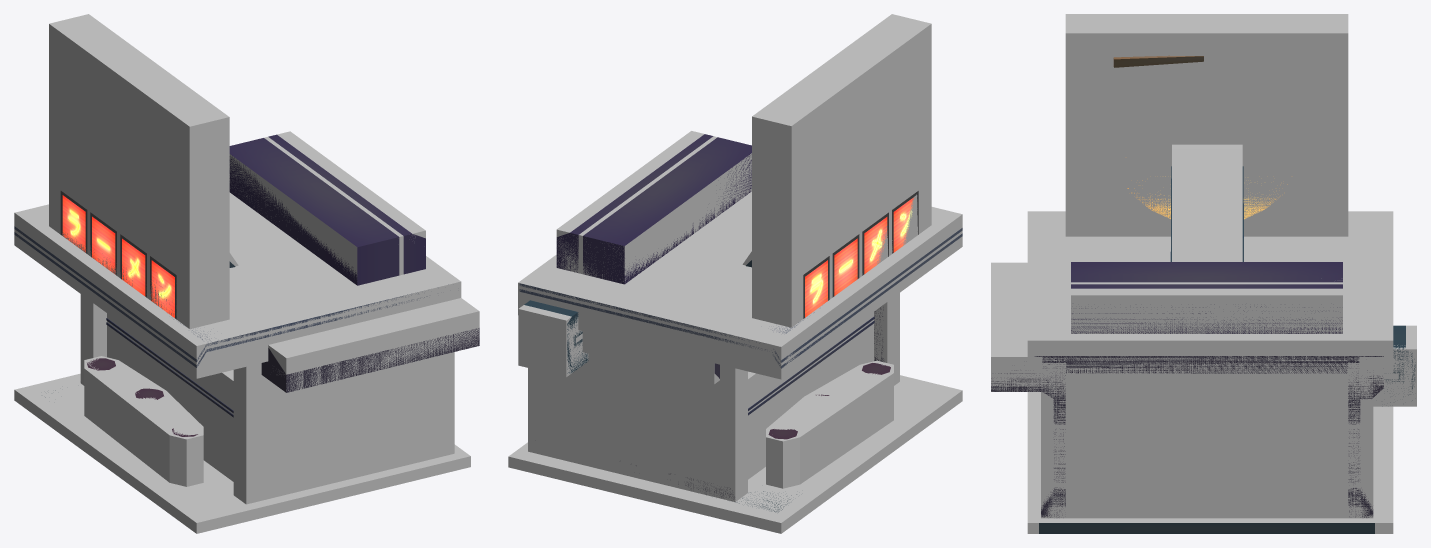
The model's file is SM_FoodShop_01.fbx.
3 views of the same model, side by side, from view 1: azimuth 30°, elevation 25°; view 2: azimuth 150°, elevation 25°; view 3: azimuth 270°, elevation 25° (orthographic).
Visible parts, largest first — view 1: SM_FoodShop_01_ConvexHulls, SM_FoodShop_01; view 2: SM_FoodShop_01_ConvexHulls, SM_FoodShop_01; view 3: SM_FoodShop_01_ConvexHulls, SM_FoodShop_01.
Part boxes in pixels (box(x1,y1,x2,y2)): SM_FoodShop_01_ConvexHulls: box(14, 14, 479, 533); SM_FoodShop_01: box(14, 134, 479, 436); SM_FoodShop_01_ConvexHulls: box(508, 14, 962, 533); SM_FoodShop_01: box(519, 134, 962, 512); SM_FoodShop_01_ConvexHulls: box(991, 14, 1416, 533); SM_FoodShop_01: box(991, 55, 1415, 533).
Bounding box in the file's own units: 398 × 533 × 541.
2 materials, 1 textured.
